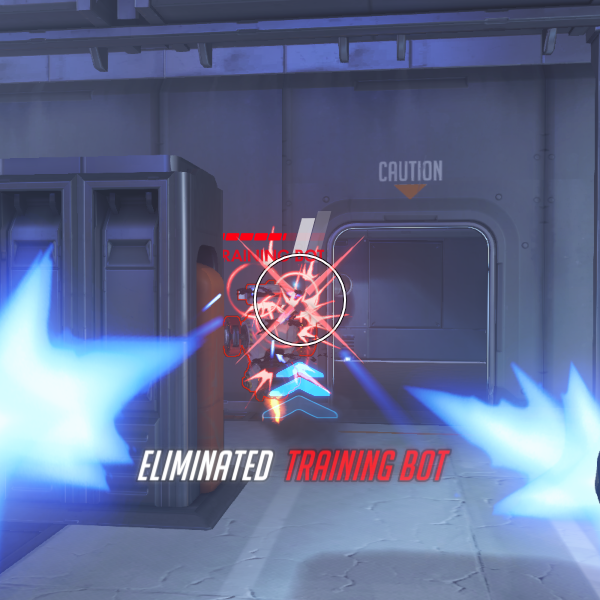hpbar: (222, 233, 326, 241)
